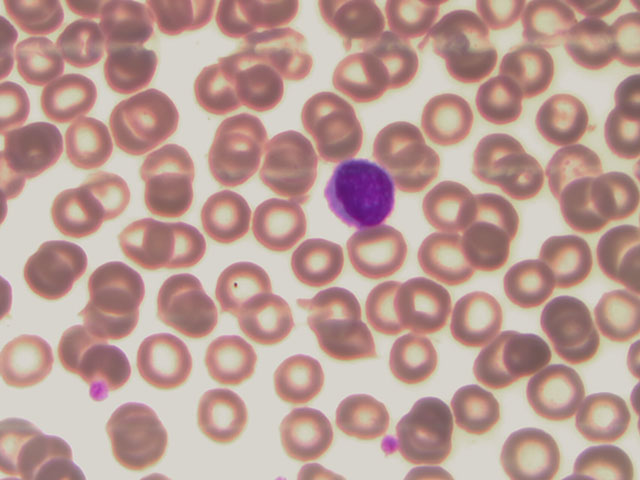Platelets: (374, 435, 400, 456), (90, 385, 112, 401)
RBC: (12, 36, 68, 90), (37, 67, 93, 121), (17, 120, 73, 174), (63, 111, 119, 165), (128, 88, 184, 142), (102, 102, 158, 156), (144, 133, 200, 187), (138, 170, 194, 224), (87, 165, 143, 219), (56, 185, 112, 239), (38, 230, 94, 284), (27, 254, 83, 308), (85, 257, 141, 311), (81, 290, 137, 344), (61, 312, 117, 366), (74, 330, 130, 384), (8, 333, 64, 387), (134, 327, 190, 381), (168, 293, 224, 347), (151, 264, 207, 318), (164, 220, 220, 274), (124, 214, 180, 268), (198, 187, 254, 241), (211, 139, 267, 193), (213, 113, 269, 167), (191, 68, 247, 122), (226, 60, 282, 114), (220, 39, 276, 93), (272, 25, 328, 79), (347, 44, 403, 98), (372, 34, 428, 88), (298, 80, 354, 134), (312, 103, 368, 157), (265, 127, 321, 181), (270, 158, 326, 212), (251, 210, 307, 264), (283, 226, 339, 280), (302, 284, 358, 338), (238, 288, 294, 342), (214, 260, 270, 314), (201, 335, 257, 389), (199, 389, 255, 443), (113, 410, 169, 464), (275, 348, 331, 402), (280, 404, 336, 458), (334, 388, 390, 442), (389, 331, 445, 385), (392, 277, 448, 331), (364, 279, 420, 333), (419, 232, 475, 286), (355, 225, 411, 279), (426, 184, 482, 238), (468, 190, 524, 244), (469, 214, 525, 268), (402, 157, 458, 211), (381, 122, 437, 176), (422, 87, 478, 141), (471, 72, 527, 126), (504, 45, 560, 99), (447, 37, 503, 91), (433, 9, 489, 63), (534, 83, 590, 137), (550, 141, 606, 195), (566, 179, 622, 233), (584, 169, 640, 223), (584, 223, 640, 277), (540, 228, 596, 282), (506, 257, 562, 311), (445, 288, 501, 342), (510, 325, 566, 379), (470, 336, 526, 390), (445, 382, 501, 436), (408, 401, 464, 455), (532, 363, 588, 417), (565, 382, 621, 436), (507, 426, 563, 480), (584, 286, 640, 340), (537, 294, 593, 348)
WBC: (328, 158, 399, 230)
